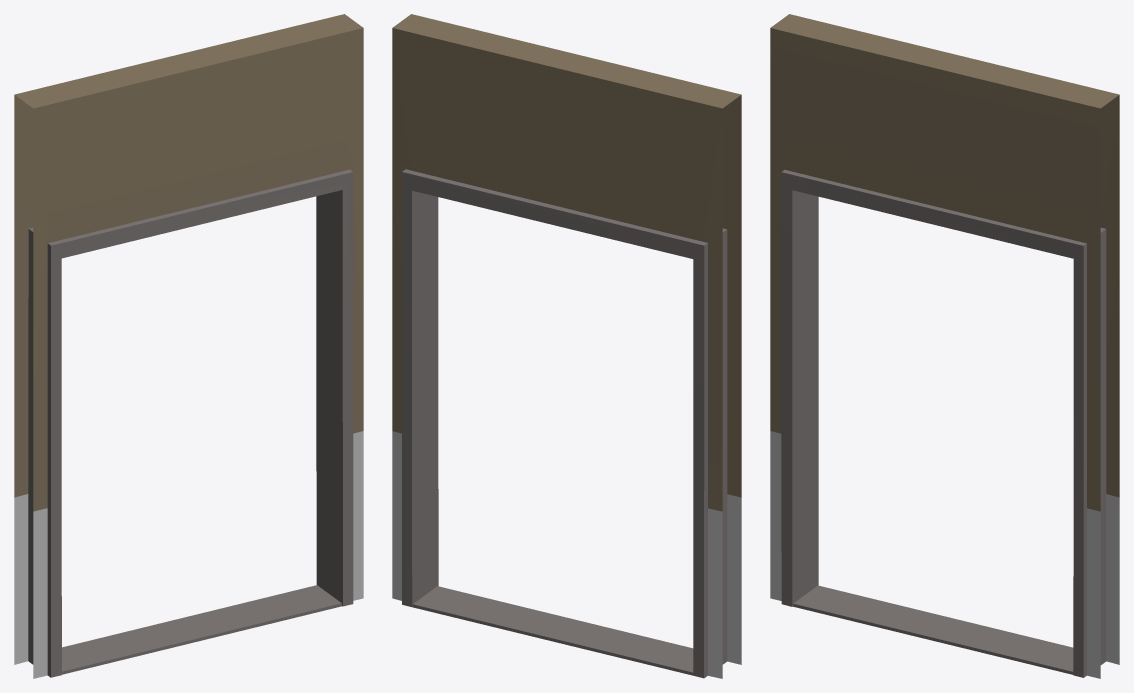
The model's file is SM_DoorFrame_B_200.FBX.
The picture shows the model from 3 angles, left to right: view 1: azimuth 30°, elevation 25°; view 2: azimuth 150°, elevation 25°; view 3: azimuth 330°, elevation 25°; orthographic projection.
Parts seen in each view (by area): view 1: SM_DoorFrame_B_200; view 2: SM_DoorFrame_B_200; view 3: SM_DoorFrame_B_200.
Boxes of the visible parts, <box> form: SM_DoorFrame_B_200: <box>14,14,363,678</box>; SM_DoorFrame_B_200: <box>392,14,741,678</box>; SM_DoorFrame_B_200: <box>770,14,1119,678</box>.
Bounding box in the file's own units: 200 × 27.86 × 330.
